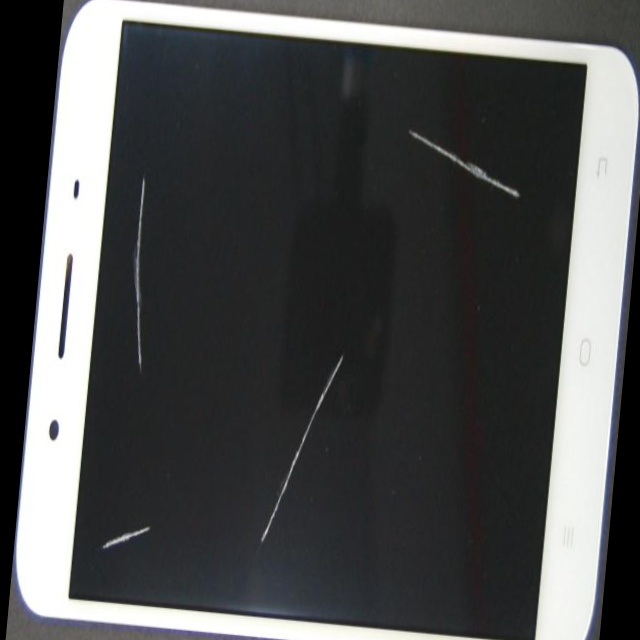scratch: (200, 16, 485, 631)
